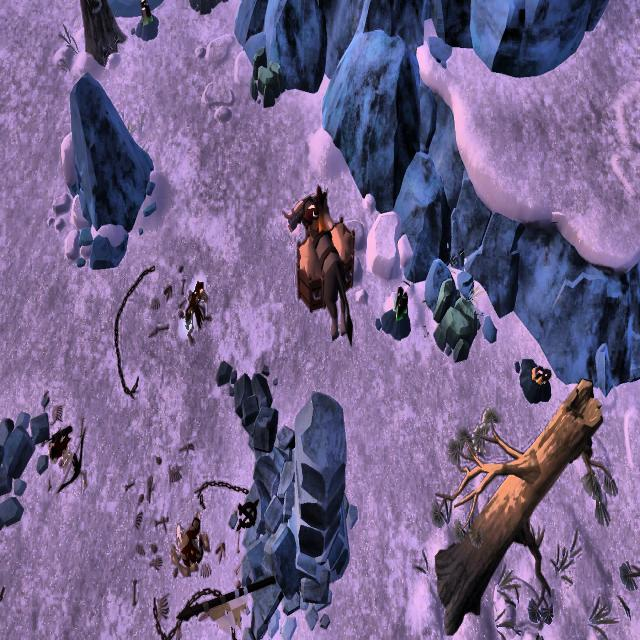enemy_factionUndead: (44, 424, 90, 493), (169, 516, 211, 581), (181, 279, 212, 340)
ore_t3: (394, 288, 411, 328), (139, 0, 153, 32)
rock_t3: (429, 284, 479, 358), (245, 42, 289, 108)
